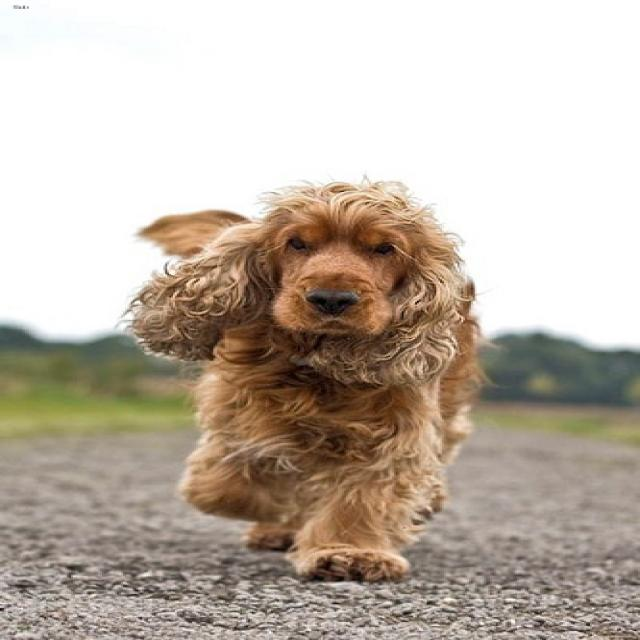dog-english_cocker_spaniel: (108, 169, 517, 591)
